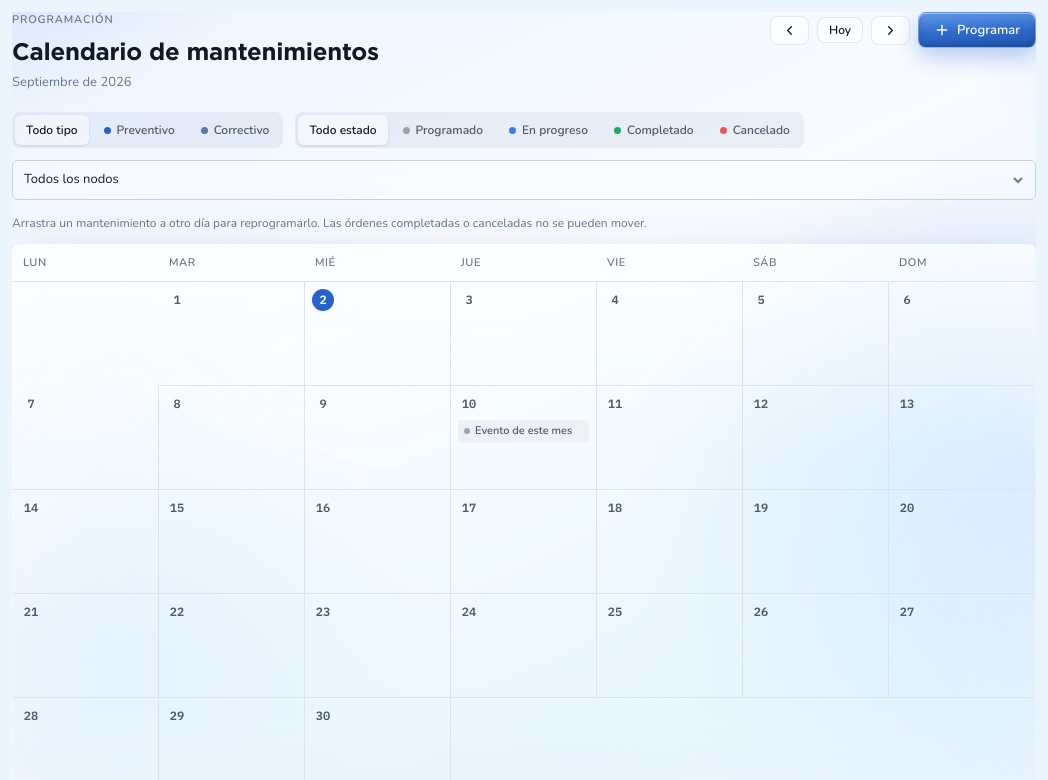
Scenario: Calendar › navegar al mes siguiente muestra los eventos programados ahi
The image size is (1048, 780).
Expected: the text "Evento de este mes" is shown, 475,423 -> 572,440
Click the button with class "lucide-chevron-right" at x=891, y=30, box 871,16 -> 910,44
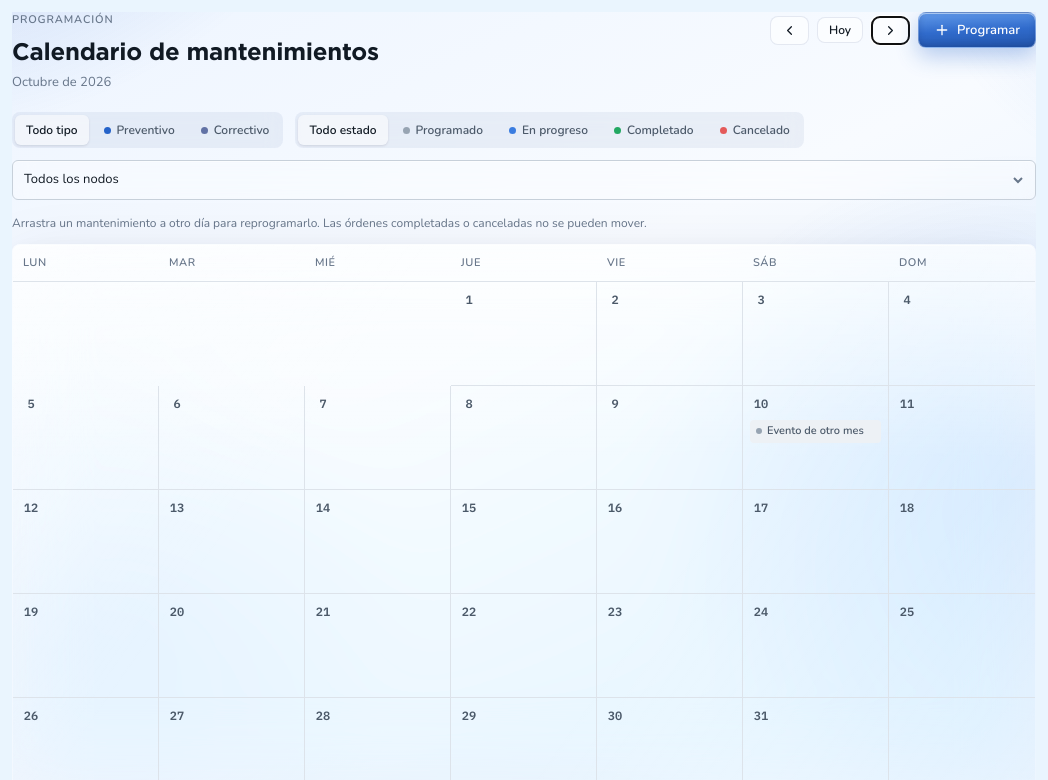
Expected: the button "Evento de este mes" is gone
Expected: the text "Evento de otro mes" is shown, 767,423 -> 864,440
